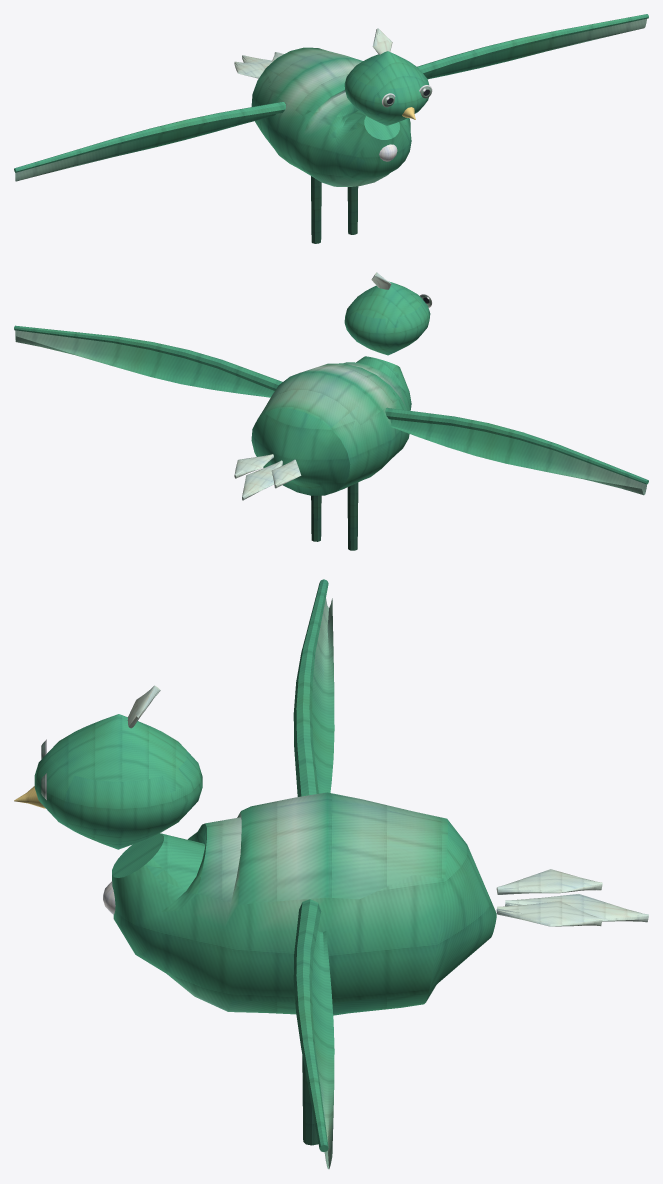
The model's file is sp_kazehane-84ehs8zg.glb.
3 renders of one model, top to bottom at view 1: azimuth 30°, elevation 25°; view 2: azimuth 150°, elevation 25°; view 3: azimuth 270°, elevation 25°, orthographic. The views are drawn at different scales.
Visible parts, largest first — view 1: Body, HeadMesh, WingLMesh, WingRMesh, Legs, TailRibbons; view 2: Body, WingRMesh, WingLMesh, HeadMesh, TailRibbons, Legs; view 3: Body, HeadMesh, WingRMesh, WingLMesh, TailRibbons.
Boxes of the visible parts, <box> form: Body: <box>251,47,411,186</box>; HeadMesh: <box>344,28,432,125</box>; WingLMesh: <box>14,102,285,181</box>; WingRMesh: <box>417,14,648,79</box>; Legs: <box>311,176,358,243</box>; TailRibbons: <box>234,52,283,78</box>; Body: <box>251,356,411,495</box>; WingRMesh: <box>14,325,282,397</box>; WingLMesh: <box>385,408,648,495</box>; HeadMesh: <box>344,272,431,355</box>; TailRibbons: <box>234,454,301,500</box>; Legs: <box>311,482,358,550</box>; Body: <box>112,792,496,1015</box>; HeadMesh: <box>14,685,202,849</box>; WingRMesh: <box>293,899,334,1169</box>; WingLMesh: <box>293,579,334,796</box>; TailRibbons: <box>496,869,648,926</box>.
Bounding box in the file's own units: 1.73 × 0.6282 × 0.8211.
Materials: 1 (1 with a texture image).
